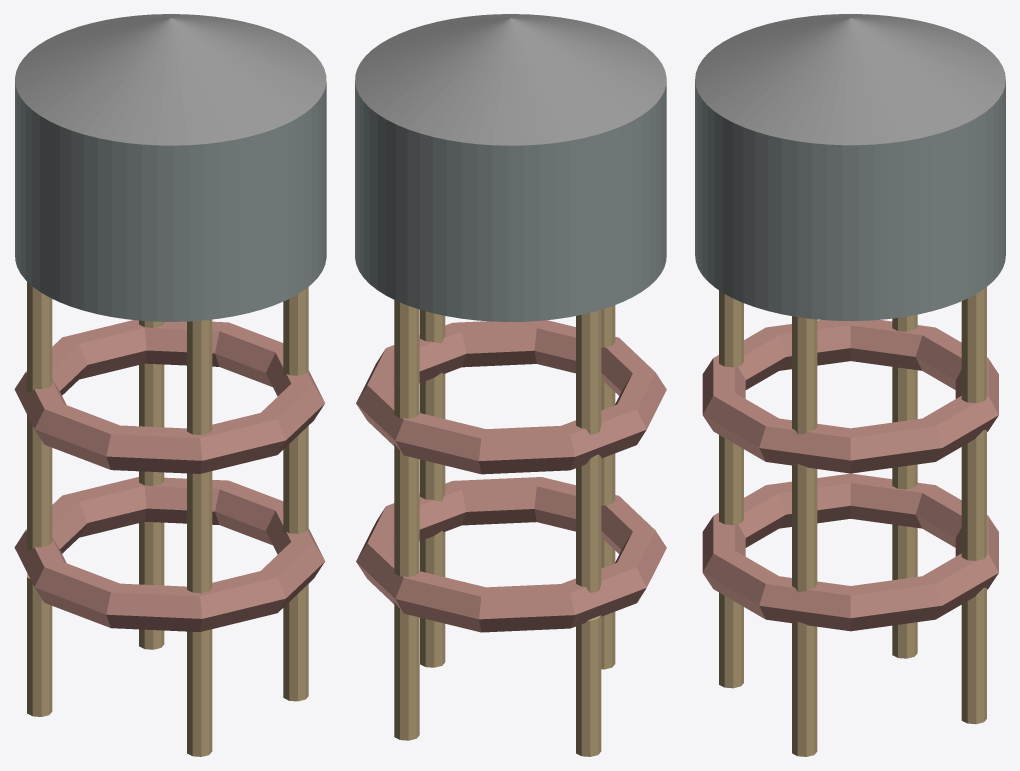
The model's file is tank.glb.
3 renders of one model, left to right at view 1: azimuth 30°, elevation 25°; view 2: azimuth 150°, elevation 25°; view 3: azimuth 270°, elevation 25°, orthographic.
Parts seen in each view (by area): view 1: Cylinder.016, Torus.002, Torus.003, Cylinder.003, Cylinder.002, Cylinder.011, Cylinder.015, Cylinder.010, Cylinder.001, Cylinder.014, Cylinder.009, Cylinder (+2 smaller); view 2: Cylinder.016, Torus.002, Torus.003, Cylinder.002, Cylinder.010, Cylinder, Cylinder.008, Cylinder.014, Cylinder.012, Cylinder.001, Cylinder.009, Cylinder.003 (+3 smaller); view 3: Cylinder.016, Torus.002, Torus.003, Cylinder.001, Cylinder, Cylinder.009, Cylinder.008, Cylinder.013, Cylinder.012, Cylinder.002, Cylinder.003, Cylinder.011 (+2 smaller).
Part boxes in pixels (bbox=[...]): Cylinder.016: bbox=[15, 14, 326, 321]; Torus.002: bbox=[14, 477, 325, 631]; Torus.003: bbox=[14, 320, 324, 473]; Cylinder.003: bbox=[187, 629, 212, 756]; Cylinder.002: bbox=[27, 573, 52, 716]; Cylinder.011: bbox=[187, 471, 212, 593]; Cylinder.015: bbox=[187, 319, 212, 434]; Cylinder.010: bbox=[27, 415, 52, 550]; Cylinder.001: bbox=[283, 584, 308, 701]; Cylinder.014: bbox=[27, 282, 52, 392]; Cylinder.009: bbox=[283, 426, 308, 533]; Cylinder: bbox=[139, 521, 164, 649]; Cylinder.016: bbox=[355, 14, 666, 321]; Torus.002: bbox=[356, 477, 666, 632]; Torus.003: bbox=[356, 320, 666, 474]; Cylinder.002: bbox=[576, 615, 601, 756]; Cylinder.010: bbox=[576, 454, 601, 593]; Cylinder: bbox=[394, 602, 419, 740]; Cylinder.008: bbox=[394, 444, 419, 576]; Cylinder.014: bbox=[576, 310, 601, 434]; Cylinder.012: bbox=[394, 300, 419, 418]; Cylinder.001: bbox=[420, 531, 445, 667]; Cylinder.009: bbox=[420, 373, 445, 501]; Cylinder.003: bbox=[601, 535, 615, 669]; Cylinder.016: bbox=[695, 14, 1005, 320]; Torus.002: bbox=[702, 473, 998, 631]; Torus.003: bbox=[702, 320, 998, 473]; Cylinder.001: bbox=[792, 622, 817, 756]; Cylinder: bbox=[961, 587, 986, 724]; Cylinder.009: bbox=[792, 464, 817, 592]; Cylinder.008: bbox=[961, 430, 986, 560]; Cylinder.013: bbox=[792, 316, 817, 434]; Cylinder.012: bbox=[961, 287, 986, 403]; Cylinder.002: bbox=[892, 524, 917, 658]; Cylinder.003: bbox=[719, 592, 743, 688]; Cylinder.011: bbox=[719, 435, 743, 524].
Bounding box in the file's own units: 2.88 × 6.99 × 2.87.
